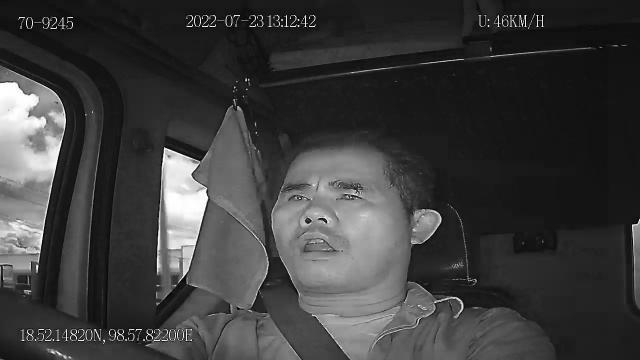SafeDriving: (328, 182, 368, 206), (280, 186, 315, 209)
Seatbelt: (257, 284, 355, 360)
